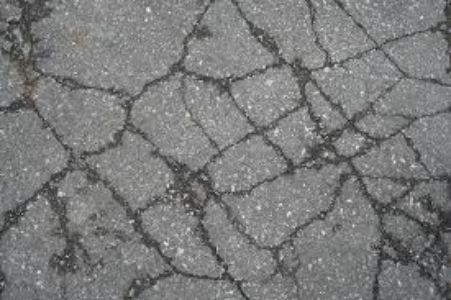alligator-crack: (2, 2, 451, 300)
